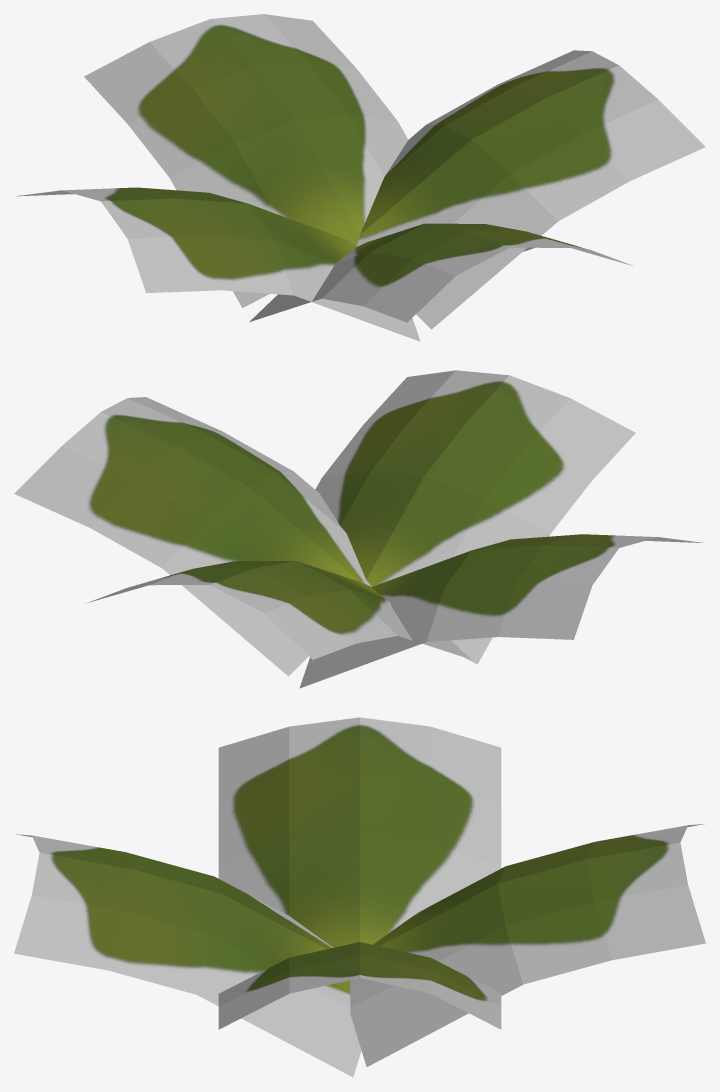
Rendered from Bush_9.fbx.
3 renders of one model, top to bottom at view 1: azimuth 30°, elevation 25°; view 2: azimuth 150°, elevation 25°; view 3: azimuth 270°, elevation 25°, orthographic. The views are drawn at different scales.
Parts seen in each view (by area): view 1: Bush.008; view 2: Bush.008; view 3: Bush.008.
Part boxes in pixels (x1=…): Bush.008: x1=16, y1=14, x2=705, y2=341; Bush.008: x1=14, y1=370, x2=702, y2=688; Bush.008: x1=14, y1=717, x2=705, y2=1077.
Size of the model in its own units: 1254 by 350 by 1254.
